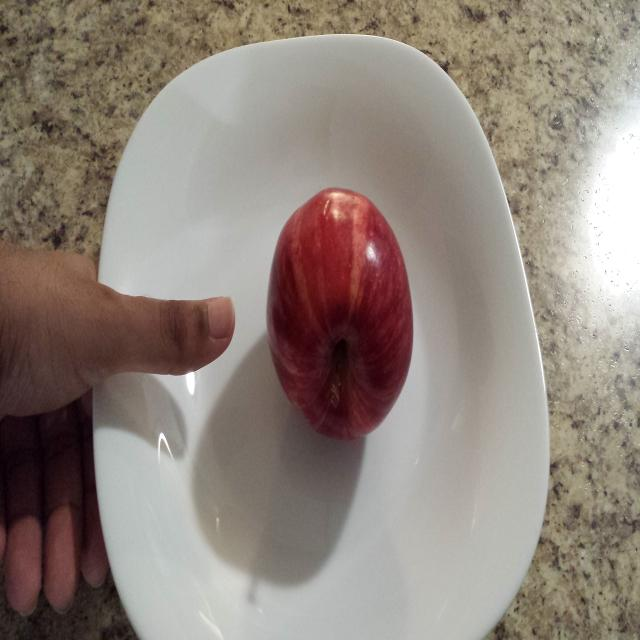apple: (257, 181, 420, 445)
